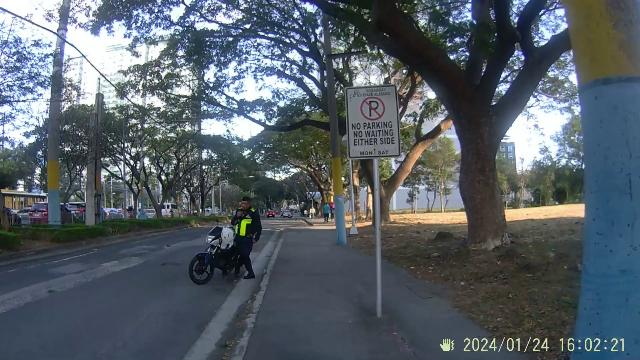motorcycle: (186, 220, 242, 284)
street_sign: (344, 81, 404, 318)
tree: (416, 38, 542, 252)
utility_post: (322, 33, 348, 245)
